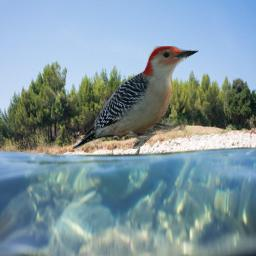Woodpecker: (73, 46, 201, 149)
